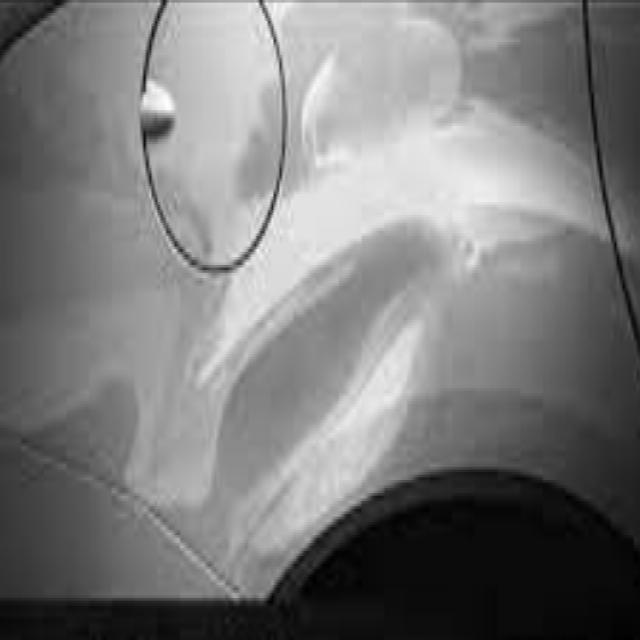dents: (204, 220, 438, 540)
